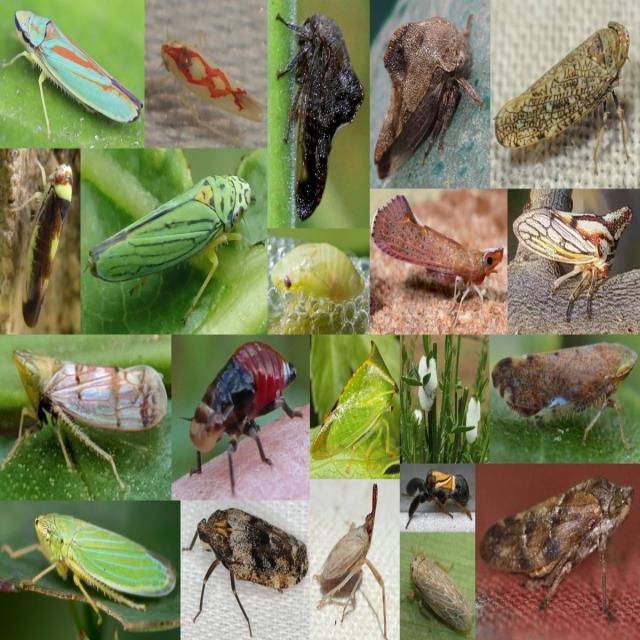Yechan: (86, 173, 257, 300), (8, 343, 170, 466), (498, 19, 634, 161), (480, 473, 636, 596), (21, 502, 175, 612), (8, 9, 139, 132), (152, 28, 266, 131), (15, 151, 74, 327), (410, 535, 470, 633)
